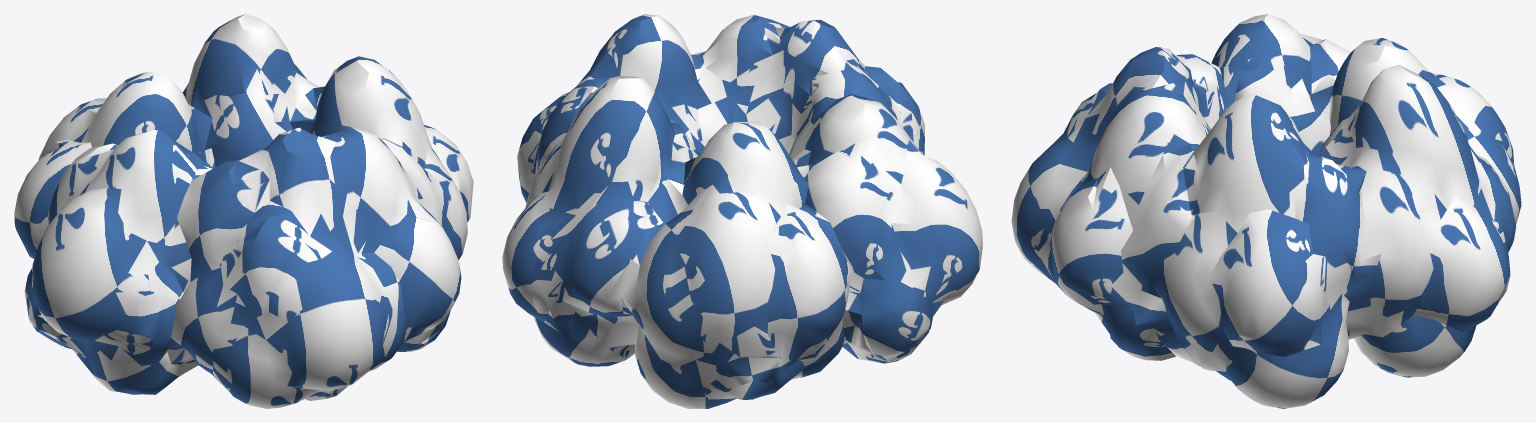
The model's file is Enmu_Meat3.fbx.
3 renders of one model, left to right at view 1: azimuth 30°, elevation 25°; view 2: azimuth 150°, elevation 25°; view 3: azimuth 270°, elevation 25°, orthographic. The views are drawn at different scales.
Visible parts, largest first — view 1: SM_e_Plc_P1011_Meat003; view 2: SM_e_Plc_P1011_Meat003; view 3: SM_e_Plc_P1011_Meat003.
Boxes of the visible parts, left/top/right/bottom form: SM_e_Plc_P1011_Meat003: left=14, top=14, right=473, bottom=408; SM_e_Plc_P1011_Meat003: left=502, top=14, right=982, bottom=408; SM_e_Plc_P1011_Meat003: left=1011, top=14, right=1521, bottom=408.
Bounding box in the file's own units: 319 × 200 × 310.
